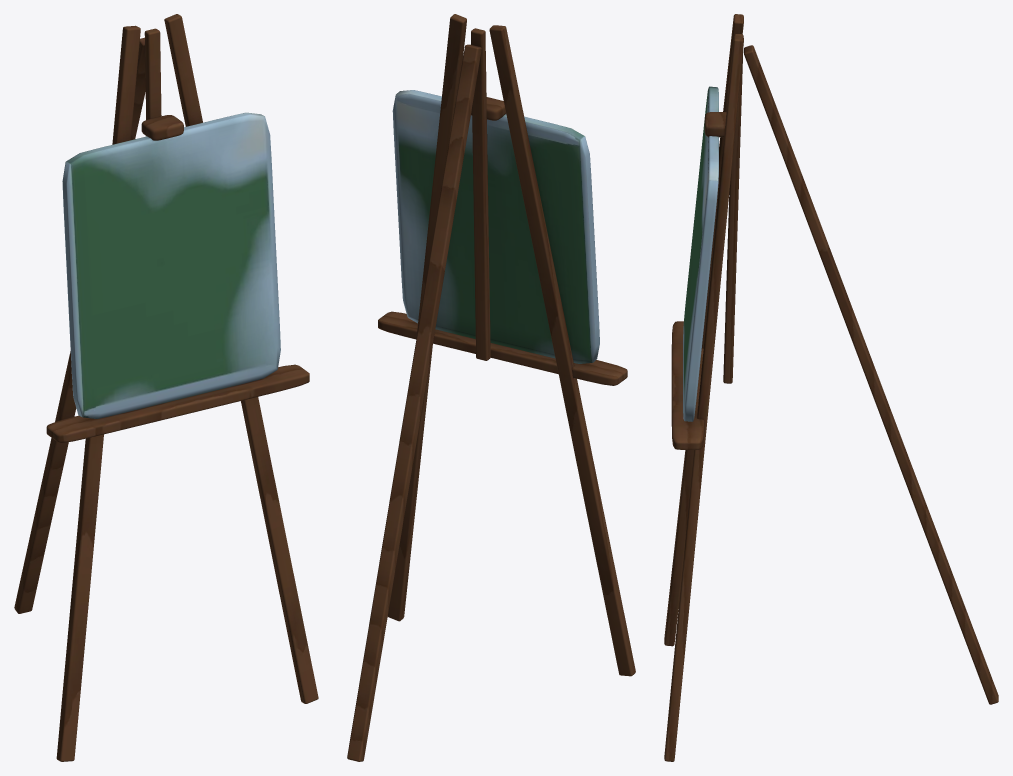
Rendered from walnut-landscape.glb.
3 renders of one model, left to right at view 1: azimuth 30°, elevation 25°; view 2: azimuth 150°, elevation 25°; view 3: azimuth 270°, elevation 25°, orthographic. The views are drawn at different scales.
Parts seen in each view (by area): view 1: painting_1, wood_z; view 2: wood_z, painting_1; view 3: wood_z, painting_1.
Part boxes in pixels (x1=…): painting_1: x1=62, y1=112, x2=280, y2=418; wood_z: x1=14, y1=14, x2=318, y2=761; wood_z: x1=347, y1=14, x2=635, y2=761; painting_1: x1=392, y1=90, x2=599, y2=363; wood_z: x1=664, y1=14, x2=998, y2=761; painting_1: x1=683, y1=86, x2=718, y2=421.
Bounding box in the file's own units: 0.6334 × 1.61 × 0.7198.
Materials: 2 (2 with a texture image).
